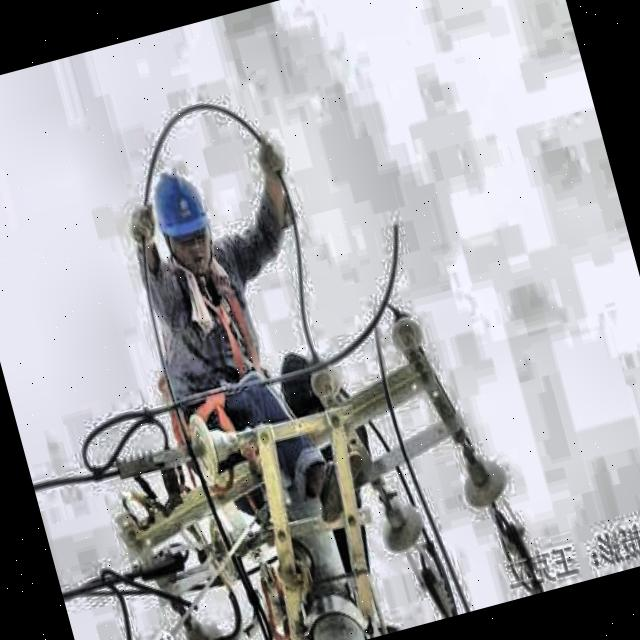helmet: (140, 158, 228, 288)
